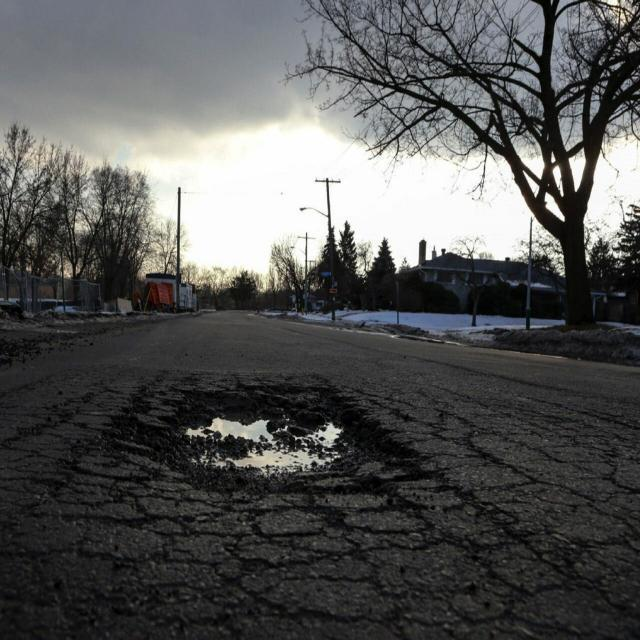pothole: (96, 358, 453, 567)
